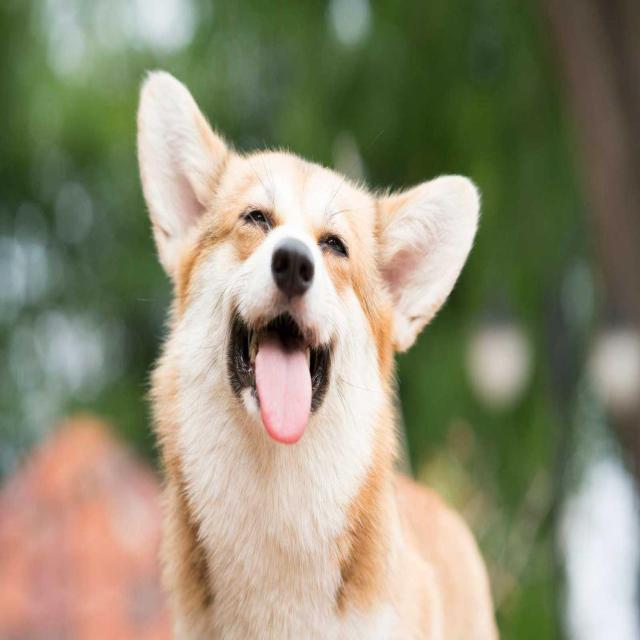Dog: (119, 52, 490, 560)
